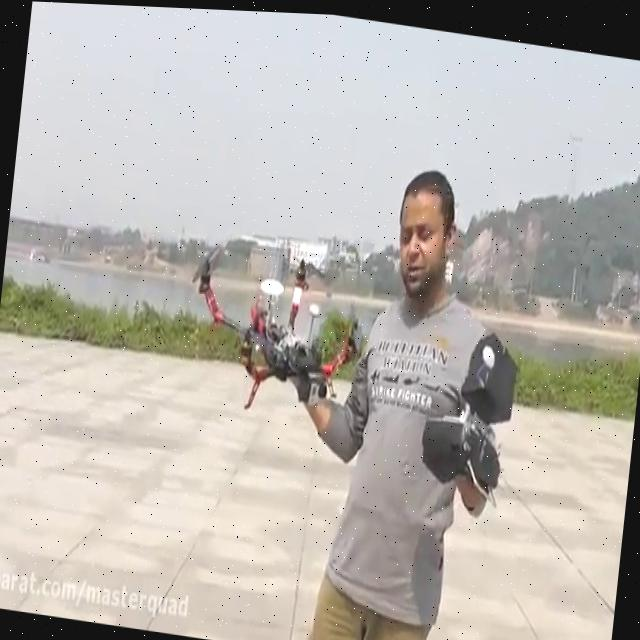drone: (176, 227, 370, 426)
